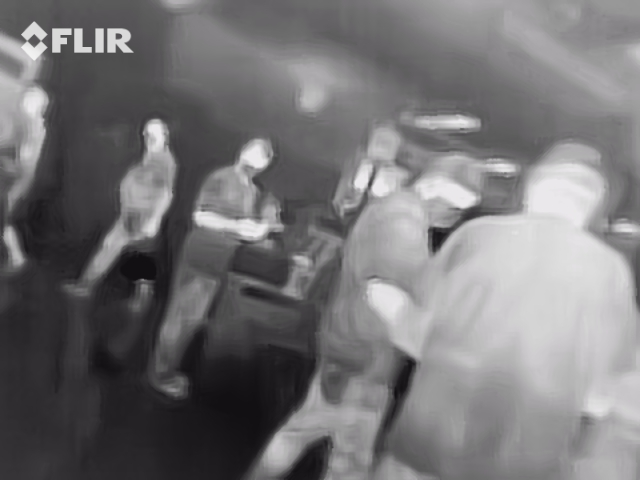head: (413, 152, 484, 231), (238, 138, 273, 181), (141, 118, 169, 155)
